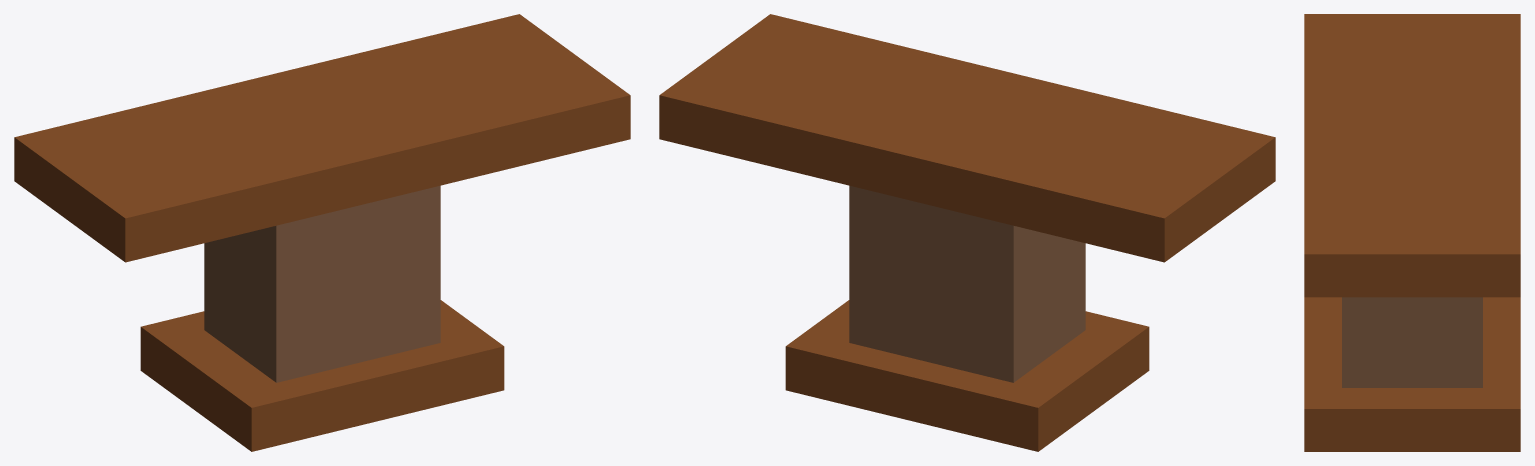
The model's file is sword_1.66.dae.
The picture shows the model from 3 angles, left to right: view 1: azimuth 30°, elevation 25°; view 2: azimuth 150°, elevation 25°; view 3: azimuth 270°, elevation 25°; orthographic projection. The views are drawn at different scales.
Visible parts, largest first — view 1: Kabza_1; view 2: Kabza_1; view 3: Kabza_1.
Part boxes in pixels (x1=…): Kabza_1: x1=14, y1=14, x2=630, y2=451; Kabza_1: x1=659, y1=14, x2=1275, y2=451; Kabza_1: x1=1304, y1=14, x2=1520, y2=451.
Size of the model in its own units: 1.2 by 0.4566 by 0.6.
